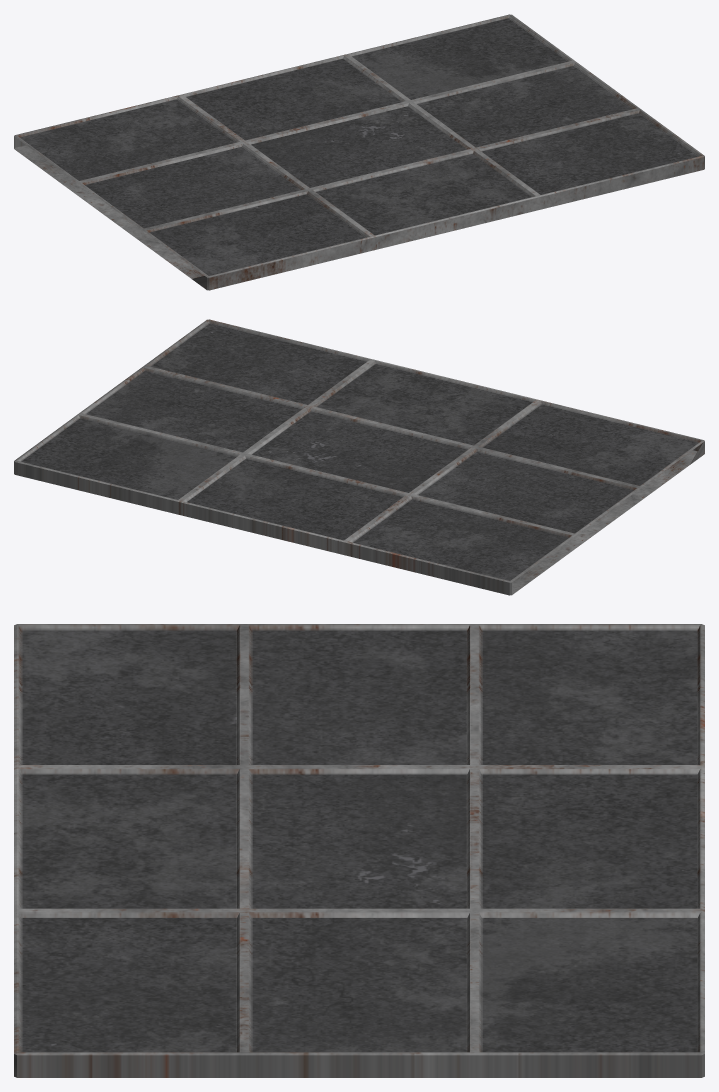
File: Base_Maquina3_Generador.fbx
The picture shows the model from 3 angles, top to bottom: view 1: azimuth 30°, elevation 25°; view 2: azimuth 150°, elevation 25°; view 3: azimuth 270°, elevation 25°; orthographic projection. The views are drawn at different scales.
Visible parts, largest first — view 1: Base_Maquina3_Generador; view 2: Base_Maquina3_Generador; view 3: Base_Maquina3_Generador.
Boxes of the visible parts, left/top/right/bottom form: Base_Maquina3_Generador: left=14, top=14, right=704, bottom=290; Base_Maquina3_Generador: left=14, top=319, right=704, bottom=595; Base_Maquina3_Generador: left=14, top=624, right=704, bottom=1077.
Size of the model in its own units: 855 by 21.8 by 579.
1 material, 1 textured.
